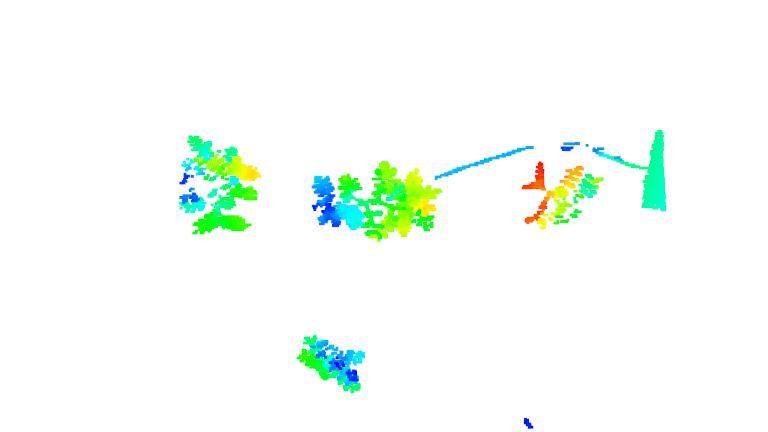chickpea: (178, 133, 259, 233), (308, 157, 401, 244), (519, 159, 604, 228), (292, 333, 368, 394), (382, 172, 440, 239)
